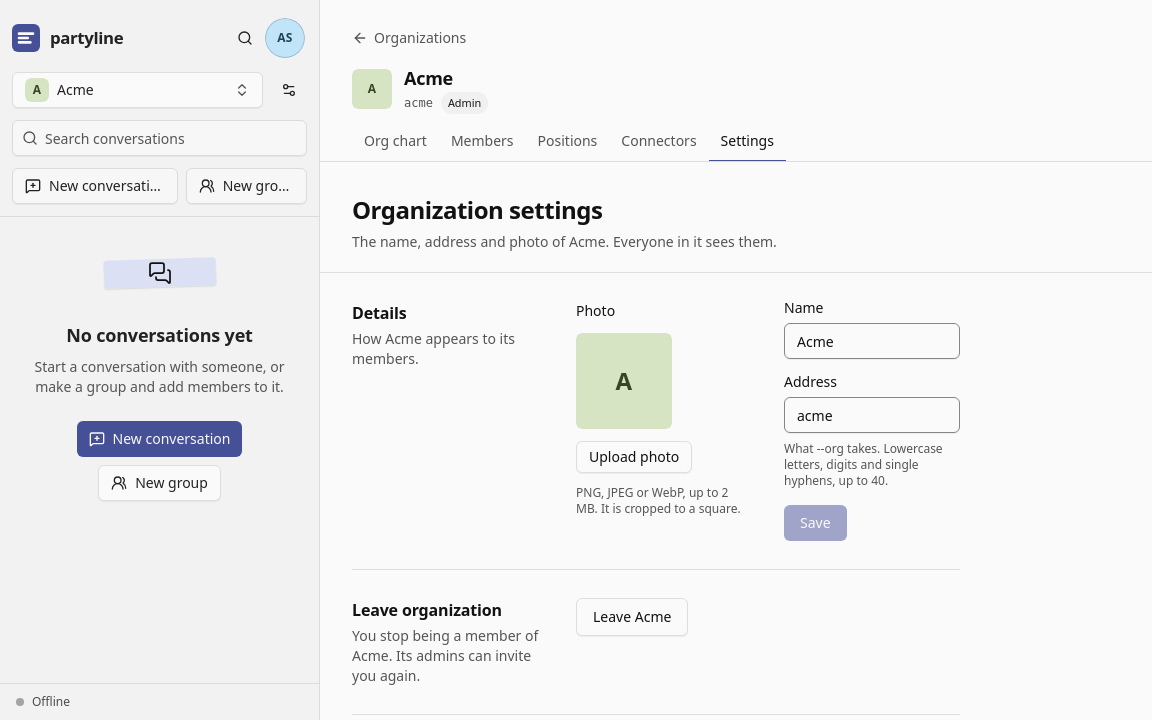
Scenario: renaming (OMEM-04) › lets an admin rename it and shows the new name at once, sending only what changed
Replace the text in the field labelled "Name" with "  Acme Inc ". click: (872, 341)
box: [784, 323, 960, 359]
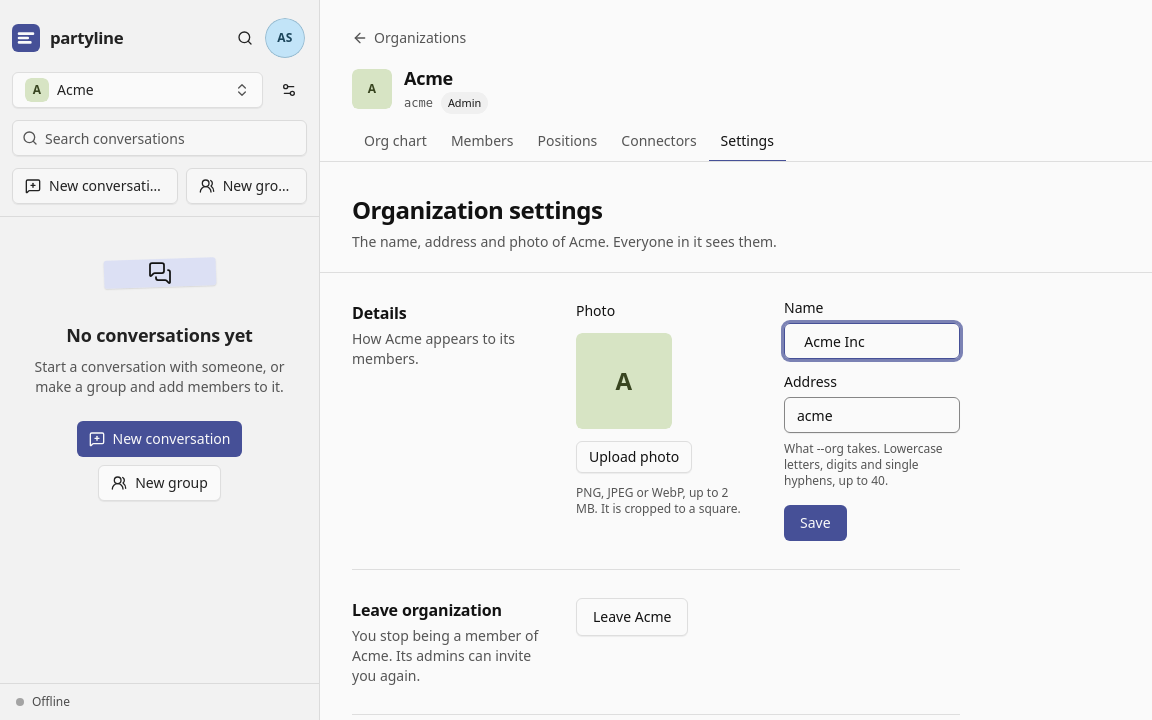
Check: the button "Save" is enabled
Click the button "Save". click: click(815, 523)
box: [784, 505, 847, 541]
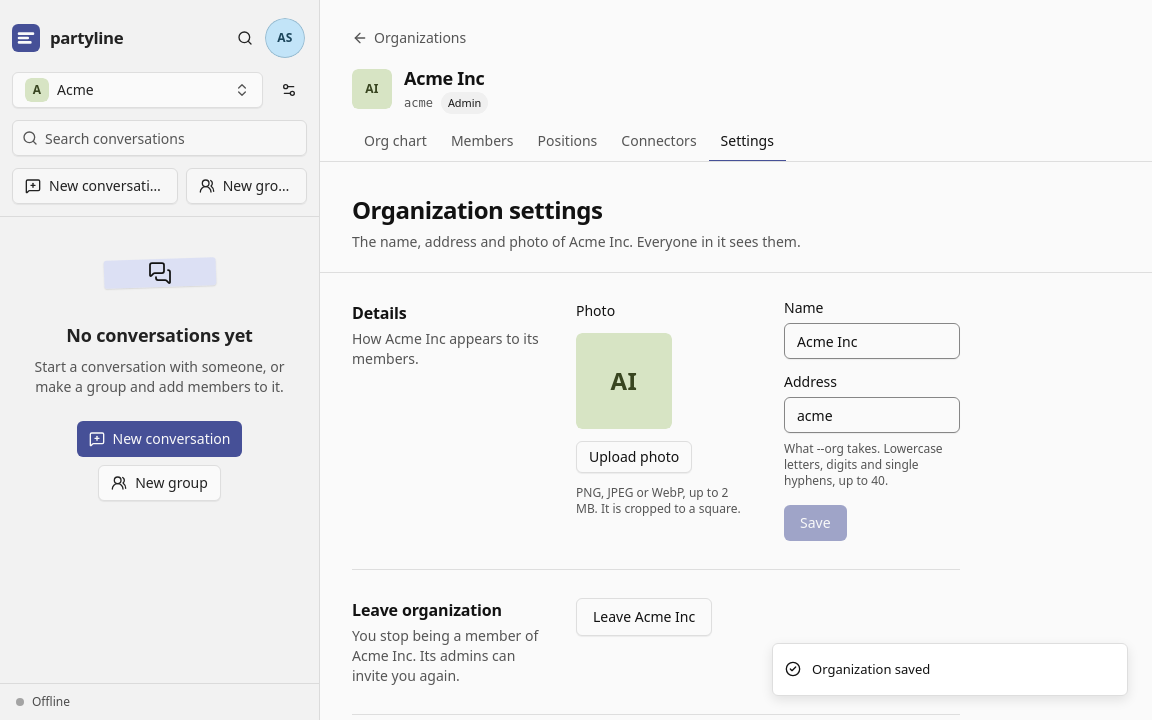
Check: the text "Organization saved" is shown, box [812, 660, 930, 679]
Check: the element with test id "org-bar" shows "Acme Inc", box [404, 66, 485, 90]
Check: the button "Save" is disabled, box [784, 505, 847, 541]
